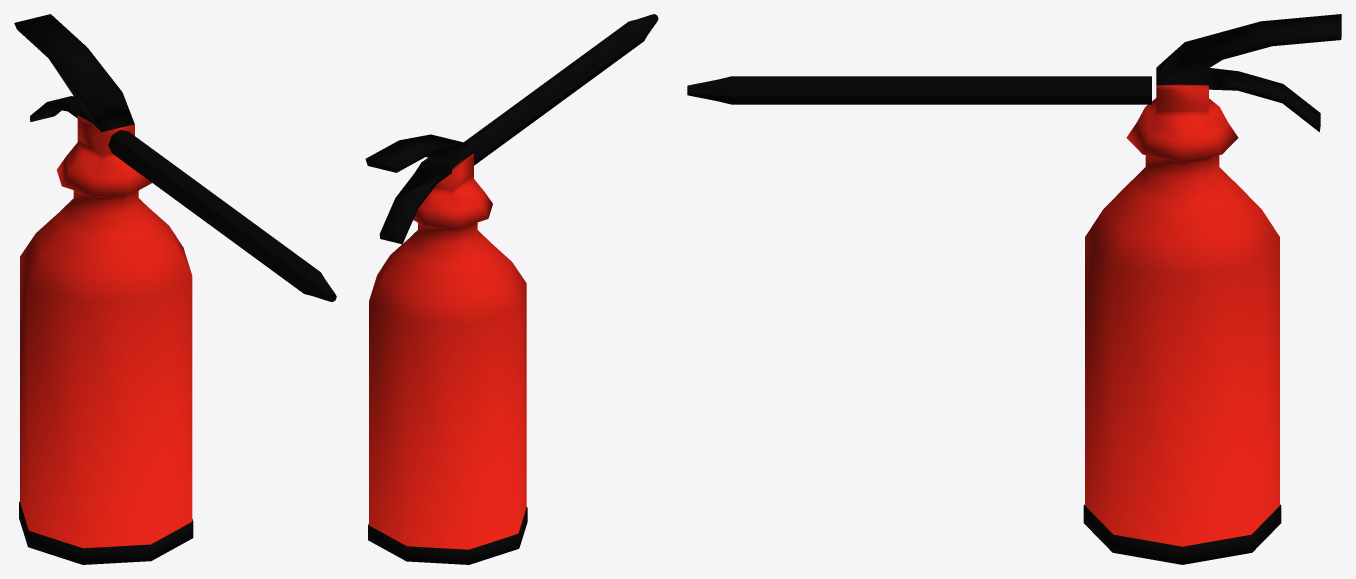
File: FIreExtingusherOtherParts1.fbx
3 renders of one model, left to right at view 1: azimuth 30°, elevation 25°; view 2: azimuth 150°, elevation 25°; view 3: azimuth 270°, elevation 25°, orthographic. The views are drawn at different scales.
Parts seen in each view (by area): view 1: 円, 円.001; view 2: 円, 円.001; view 3: 円, 円.001.
Boxes of the visible parts, x1,y1,x2,y2 form: 円: (14, 14, 193, 564); 円.001: (108, 130, 336, 301); 円: (365, 134, 527, 564); 円.001: (464, 14, 658, 165); 円: (1083, 14, 1341, 564); 円.001: (687, 76, 1151, 104).
Size of the model in its own units: 200 by 558 by 663.
